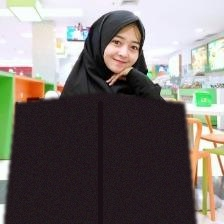Cadar_Niqab: (4, 4, 196, 224)
